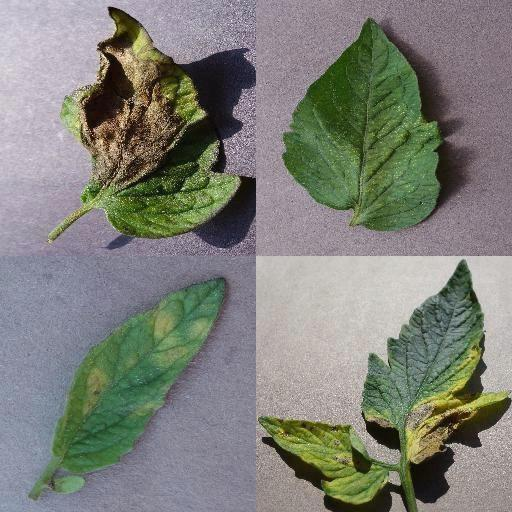Early Blight: (361, 258, 512, 466)
Late Blight: (61, 6, 241, 240)
Leaf Mold: (56, 275, 227, 473)
Spider Mites: (283, 17, 441, 233)
